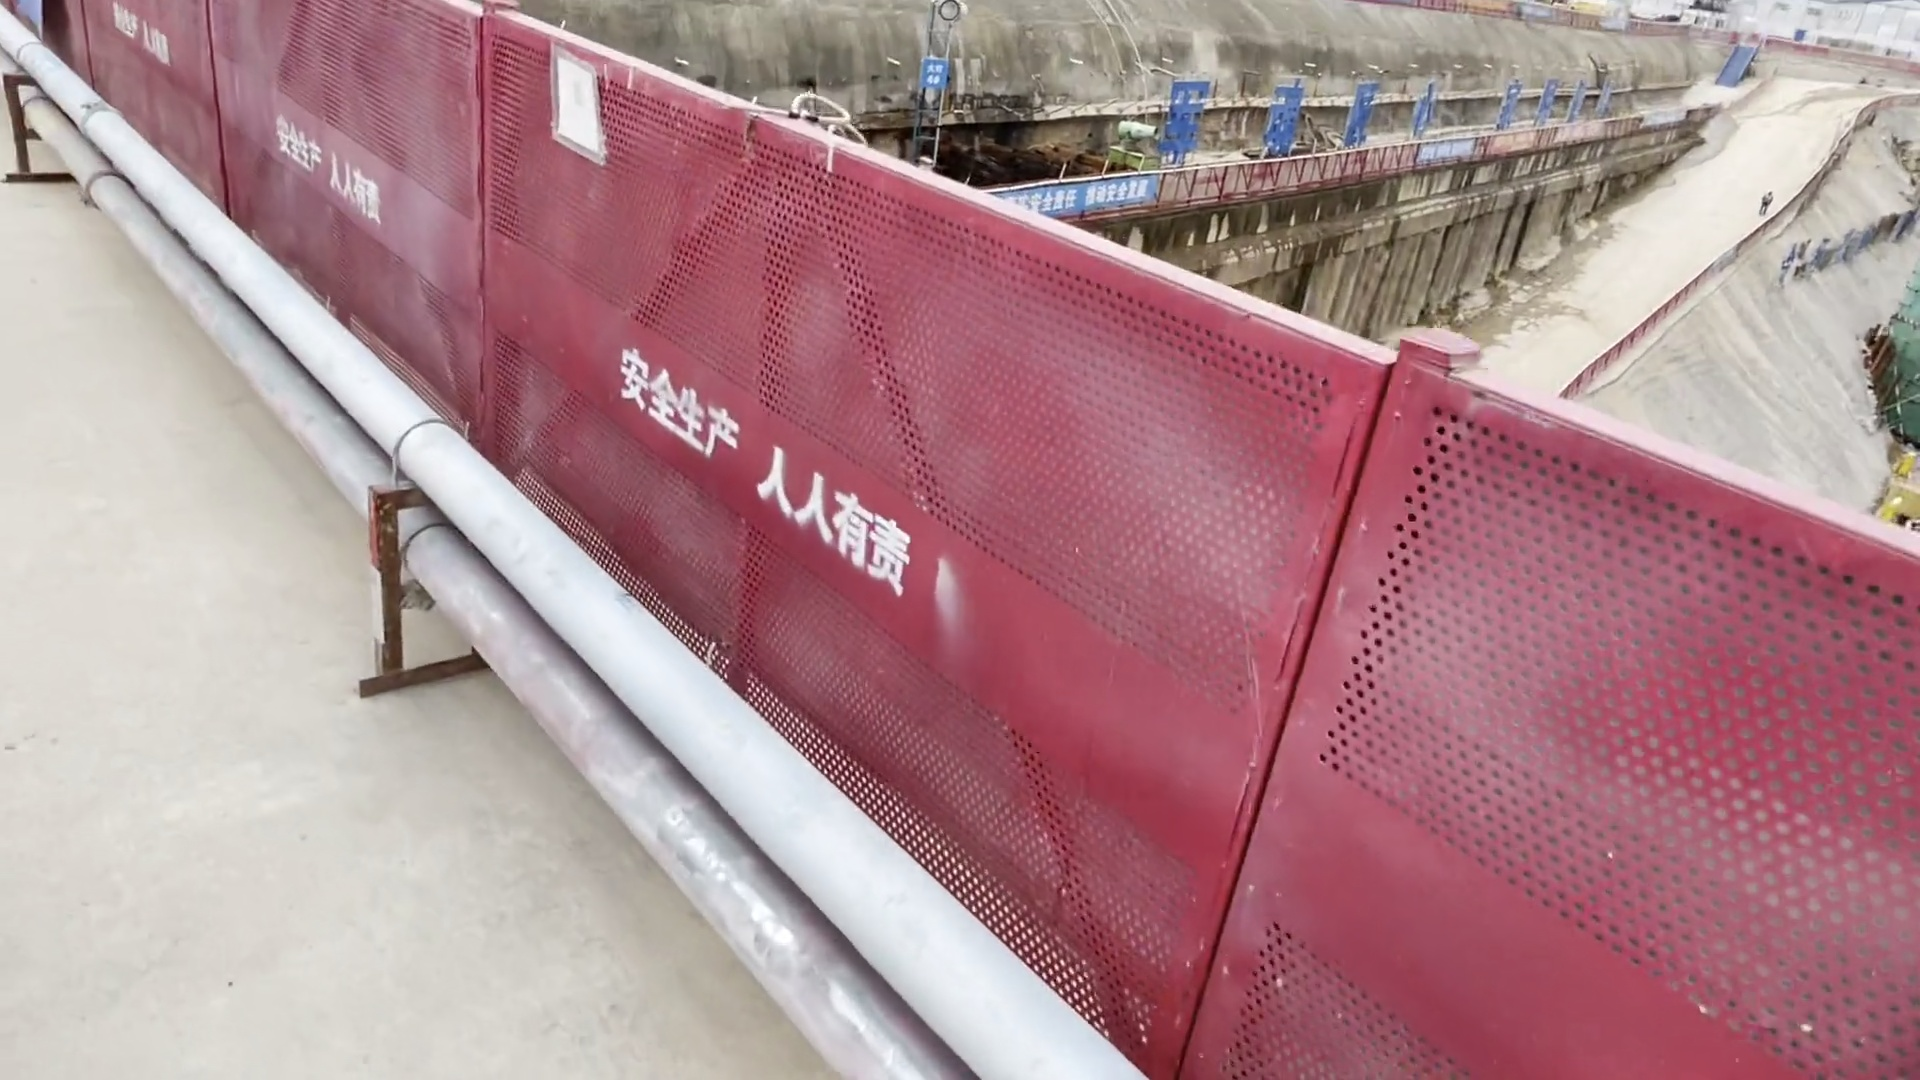fence: (516, 45, 1920, 1071)
slogan: (992, 165, 1160, 212)
